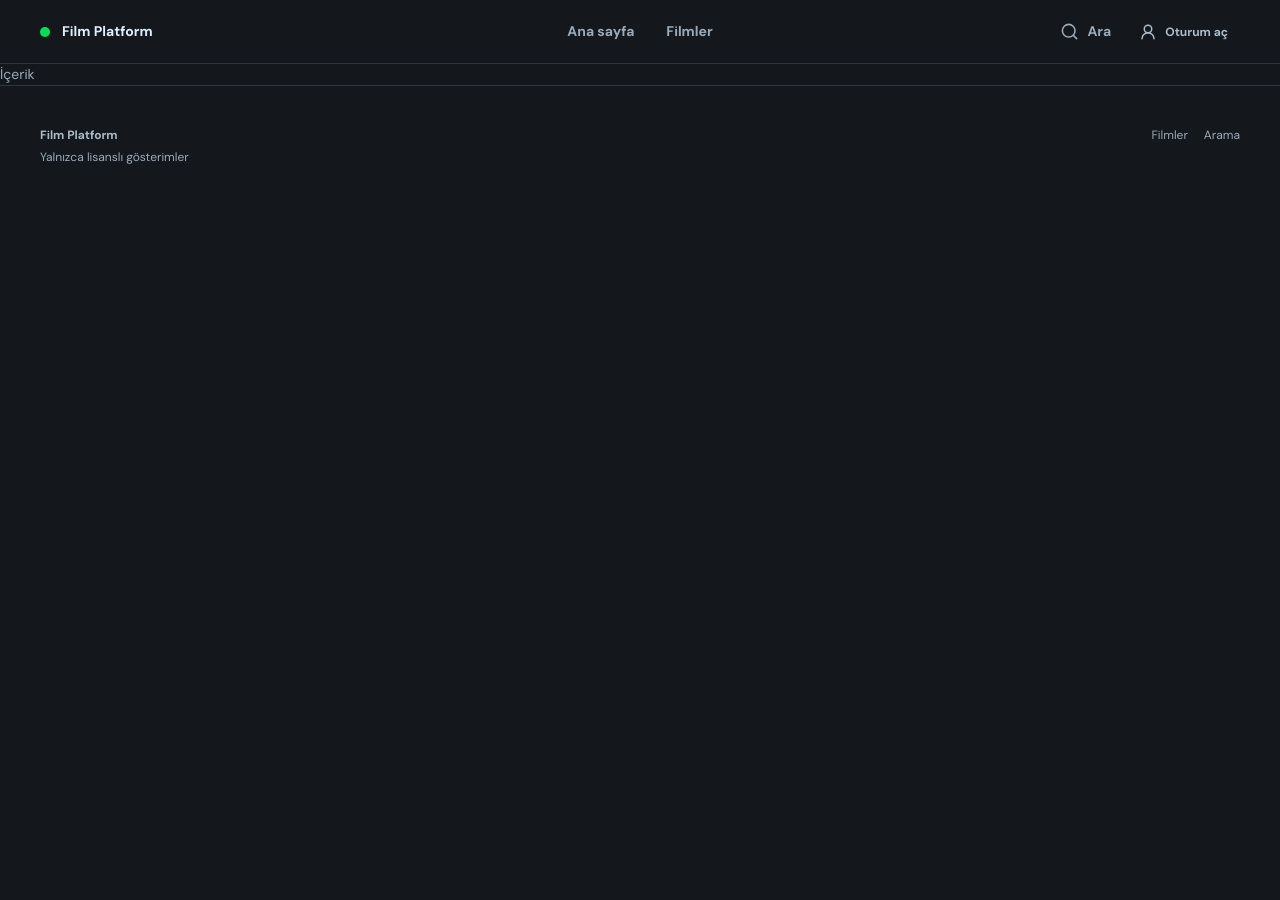
Scenario: PublicShell › opens a labeled GET search form and returns focus on Escape
Click the button "Ara" at (1086, 32), box [1048,10,1123,54]
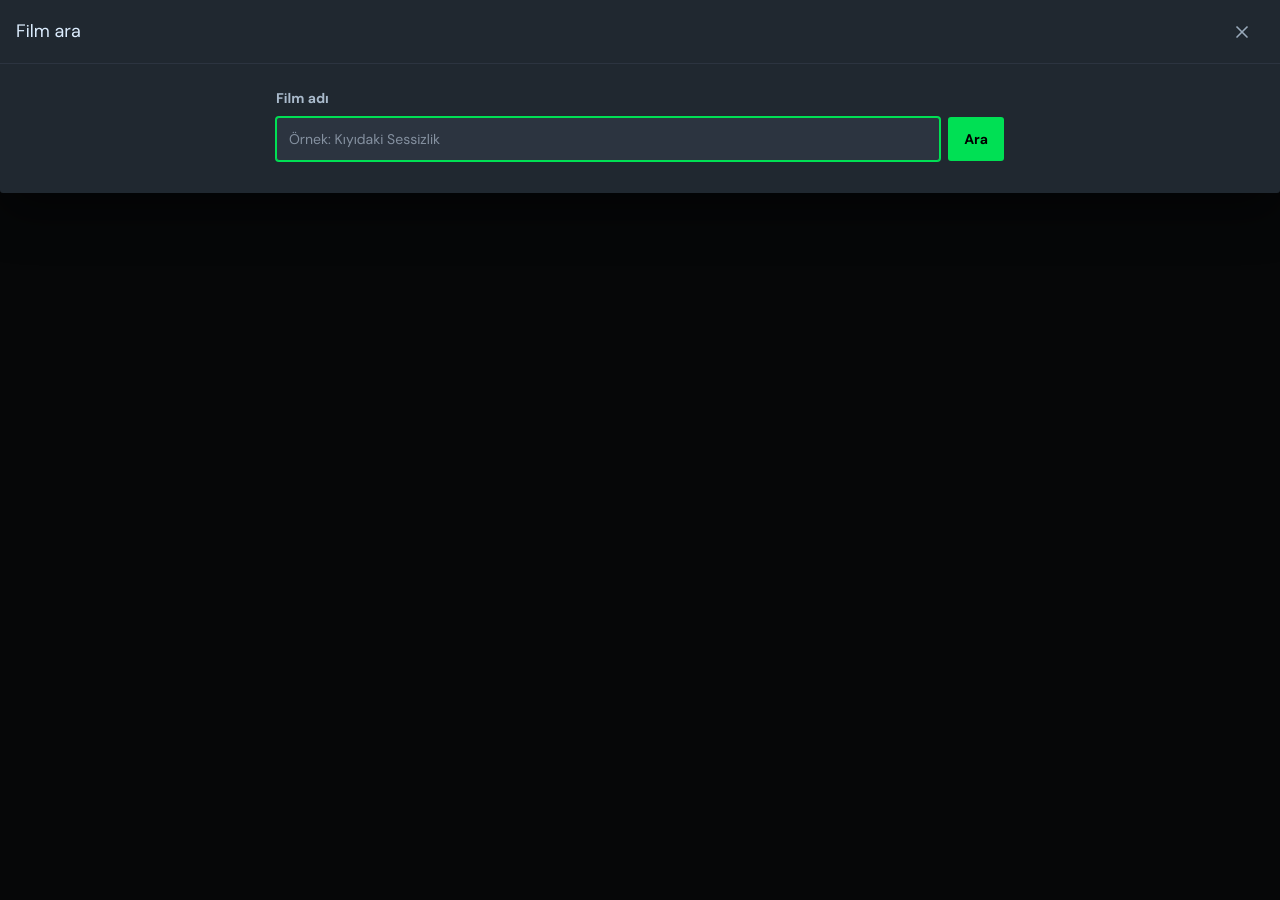
Expected: the dialog "Film ara" is shown, [0,0,1279,193]
Type "Kıyı" into the search field labelled "Film adı" at (608, 139), box [276,117,940,161]
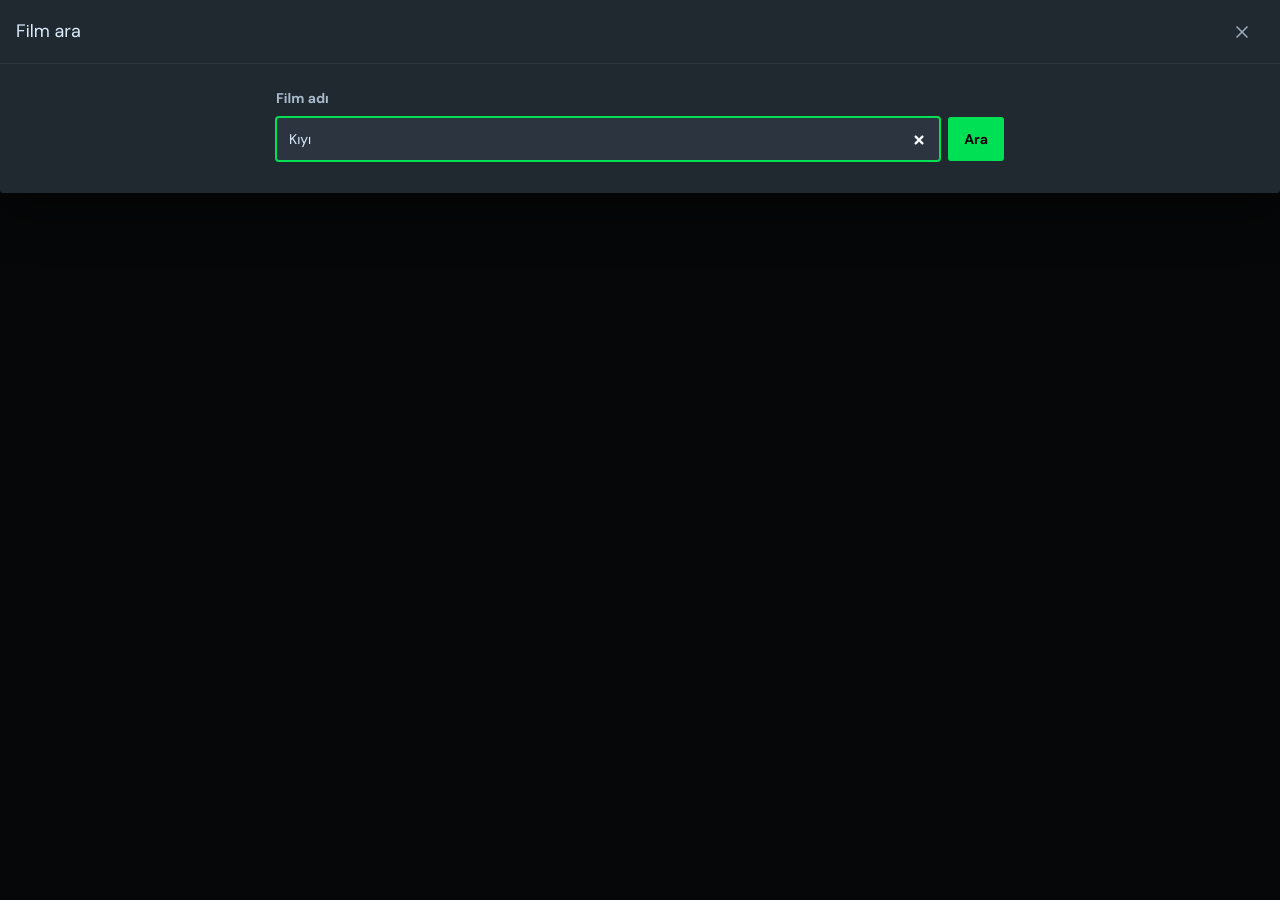
Press Escape
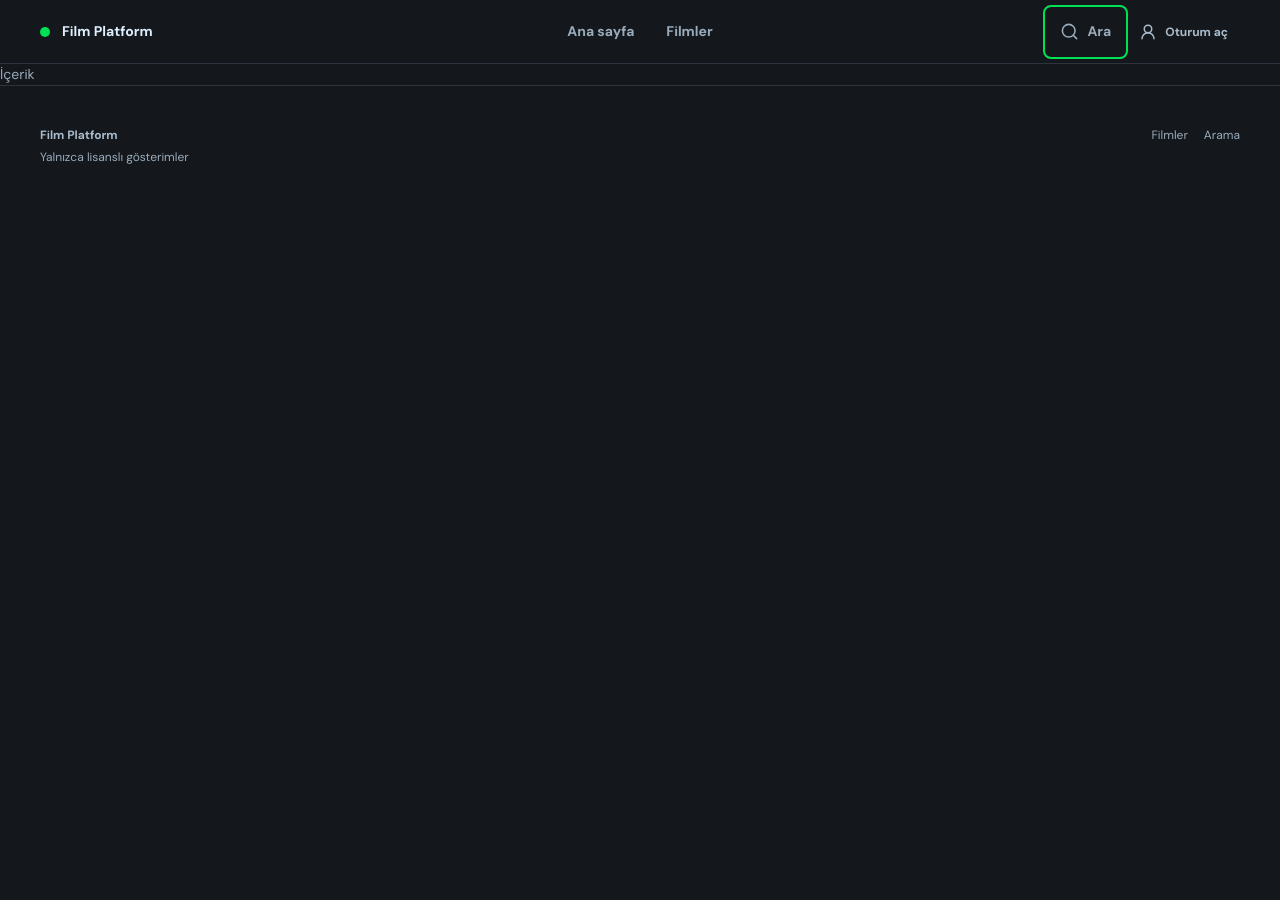
Click the button "Ara" at (1086, 32), box [1048,10,1123,54]
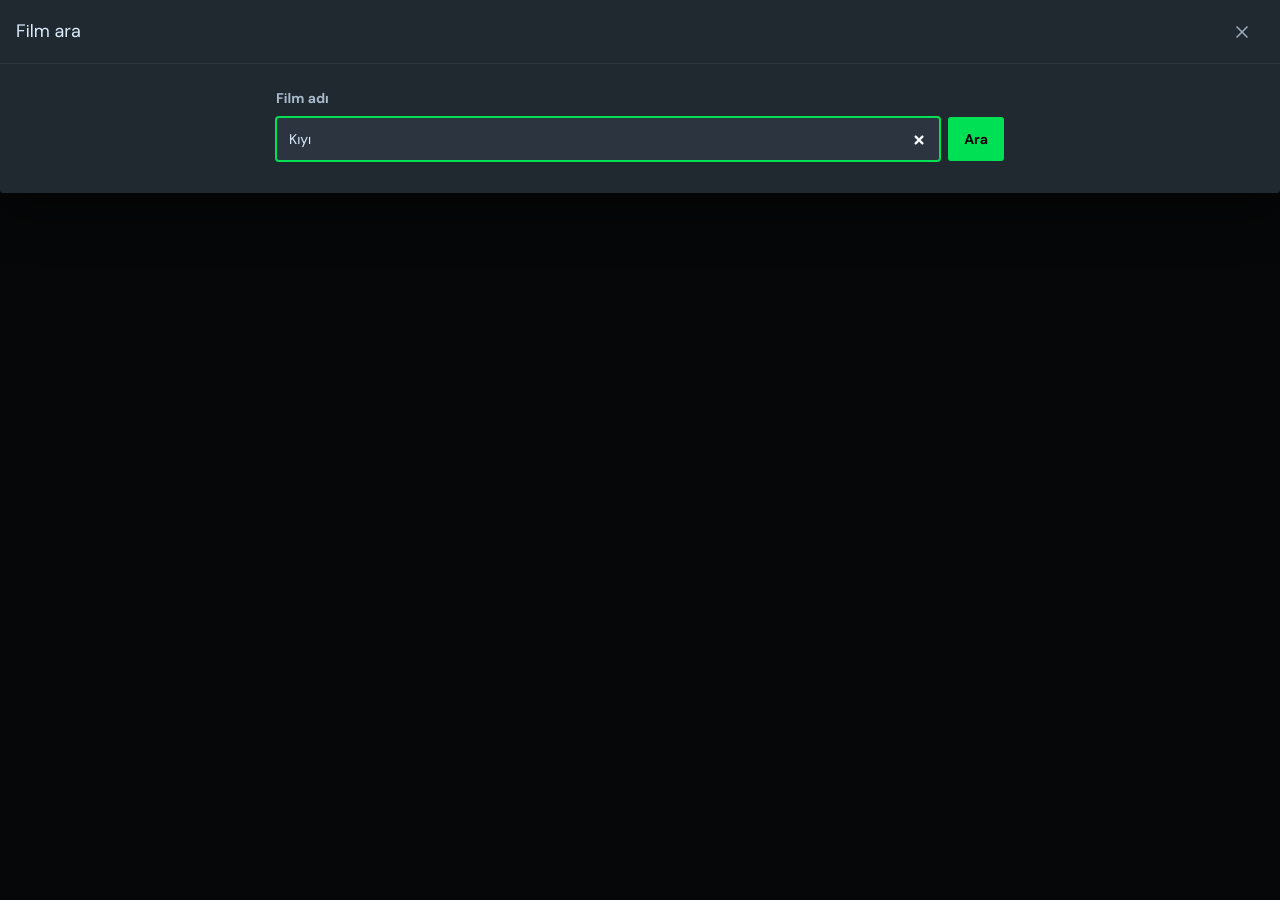
Expected: the search field labelled "Film adı" holds "Kıyı", [276,117,940,161]
